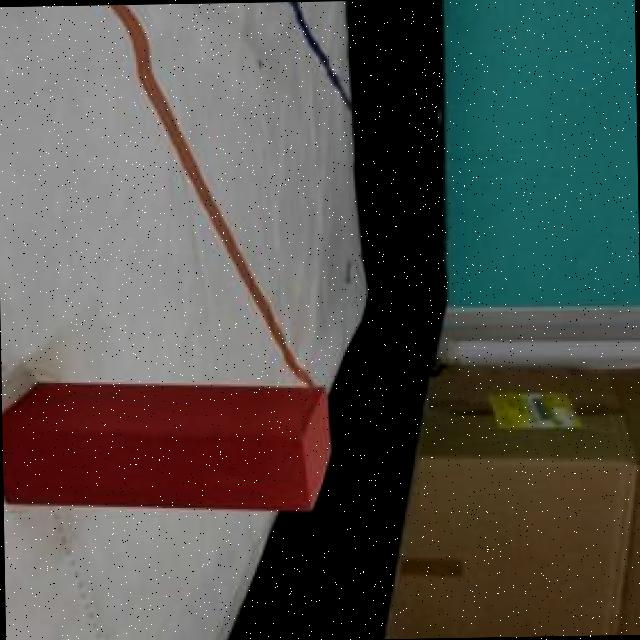redbox: (1, 372, 334, 514)
